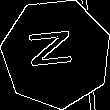N_E: (29, 31, 83, 76)
